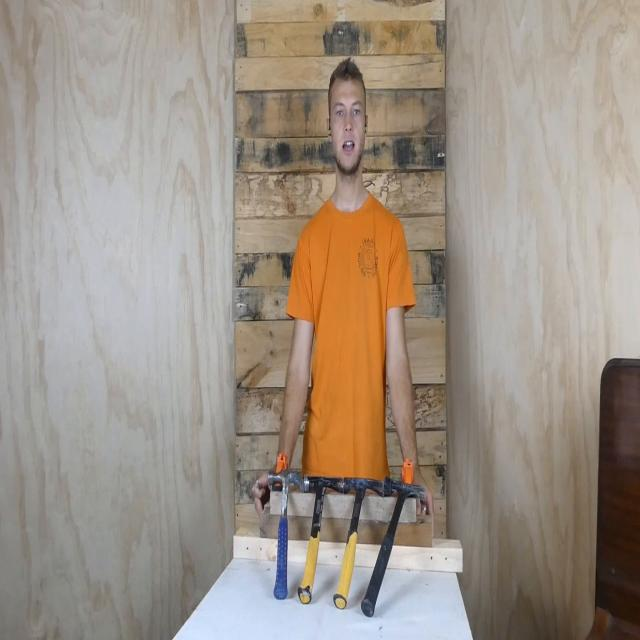hammer: (361, 476, 426, 617), (333, 476, 385, 610), (298, 474, 344, 606), (268, 470, 304, 599)
